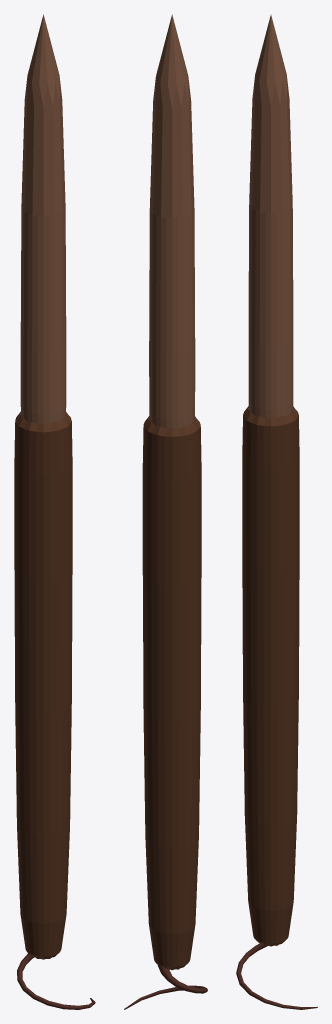
File: Wand 9.glb
3 renders of one model, left to right at view 1: azimuth 30°, elevation 25°; view 2: azimuth 150°, elevation 25°; view 3: azimuth 330°, elevation 25°, orthographic. The views are drawn at different scales.
Visible parts, largest first — view 1: GeneratedWand; view 2: GeneratedWand; view 3: GeneratedWand.
Part boxes in pixels (<box>): GeneratedWand: <box>14,14,95,1009</box>; GeneratedWand: <box>124,14,207,1009</box>; GeneratedWand: <box>236,15,317,1009</box>.
Bounding box in the file's own units: 0.0402 × 0.5154 × 0.0338.
